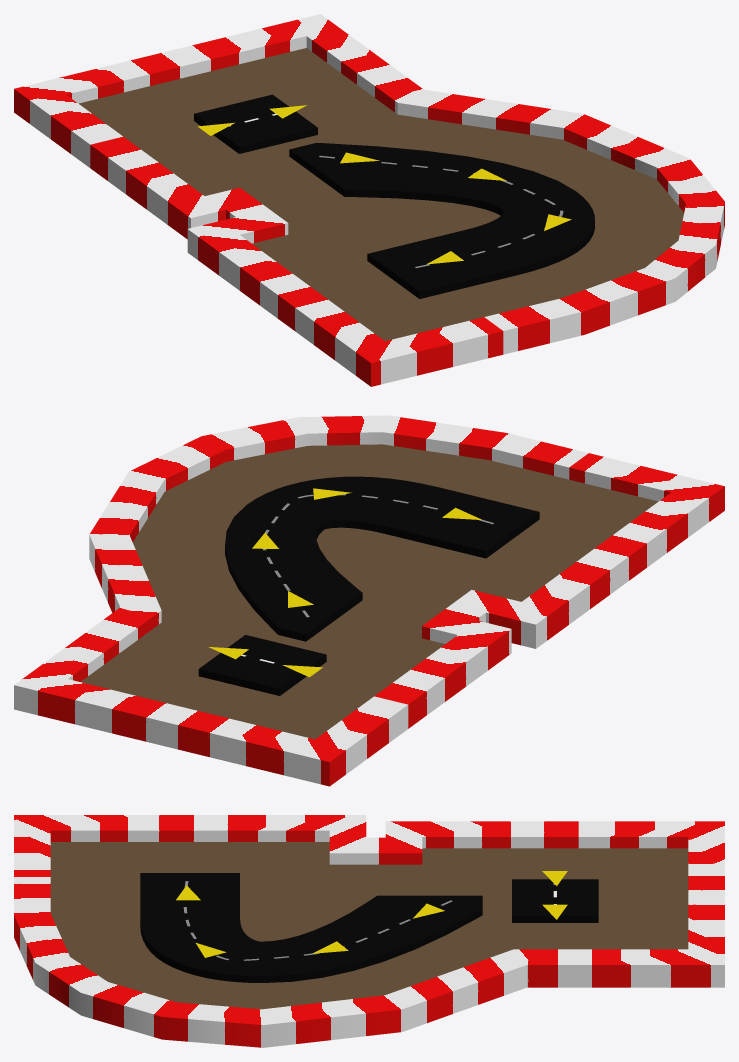
File: Thain.FBX
The picture shows the model from 3 angles, top to bottom: view 1: azimuth 30°, elevation 25°; view 2: azimuth 150°, elevation 25°; view 3: azimuth 270°, elevation 25°; orthographic projection. The views are drawn at different scales.
Visible parts, largest first — view 1: Thain_coll, Thain_floor, Thain; view 2: Thain_floor, Thain_coll, Thain; view 3: Thain_floor, Thain_coll, Thain.
Part boxes in pixels (x1,y1,x2,y2): Thain_coll: (14, 14, 724, 386); Thain_floor: (79, 48, 683, 340); Thain: (194, 94, 594, 298); Thain_floor: (80, 444, 658, 739); Thain_coll: (14, 415, 724, 786); Thain: (198, 476, 539, 695); Thain_floor: (50, 842, 688, 1009); Thain_coll: (14, 815, 724, 1047); Thain: (140, 873, 598, 982).
Bounding box in the file's own units: 650 × 32.77 × 930.
